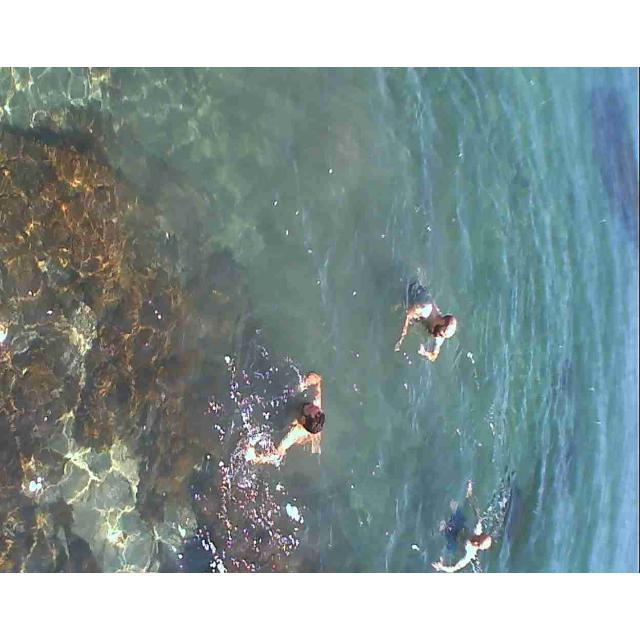human: (243, 373, 344, 478), (398, 276, 459, 377)
